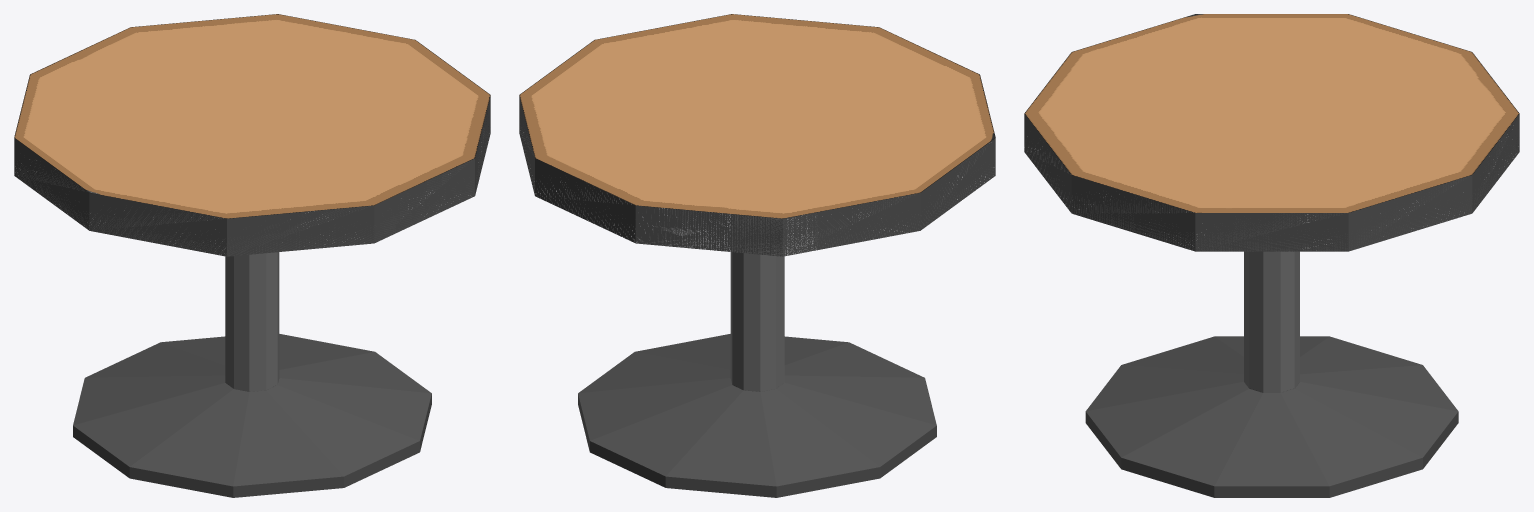
Rendered from Table.fbx.
3 renders of one model, left to right at view 1: azimuth 30°, elevation 25°; view 2: azimuth 150°, elevation 25°; view 3: azimuth 270°, elevation 25°, orthographic.
Parts seen in each view (by area): view 1: Mesa; view 2: Mesa; view 3: Mesa.
Part boxes in pixels (<box>): Mesa: <box>14,14,490,497</box>; Mesa: <box>519,14,995,497</box>; Mesa: <box>1024,14,1519,497</box>.
Size of the model in its own units: 107 by 77.22 by 112.
